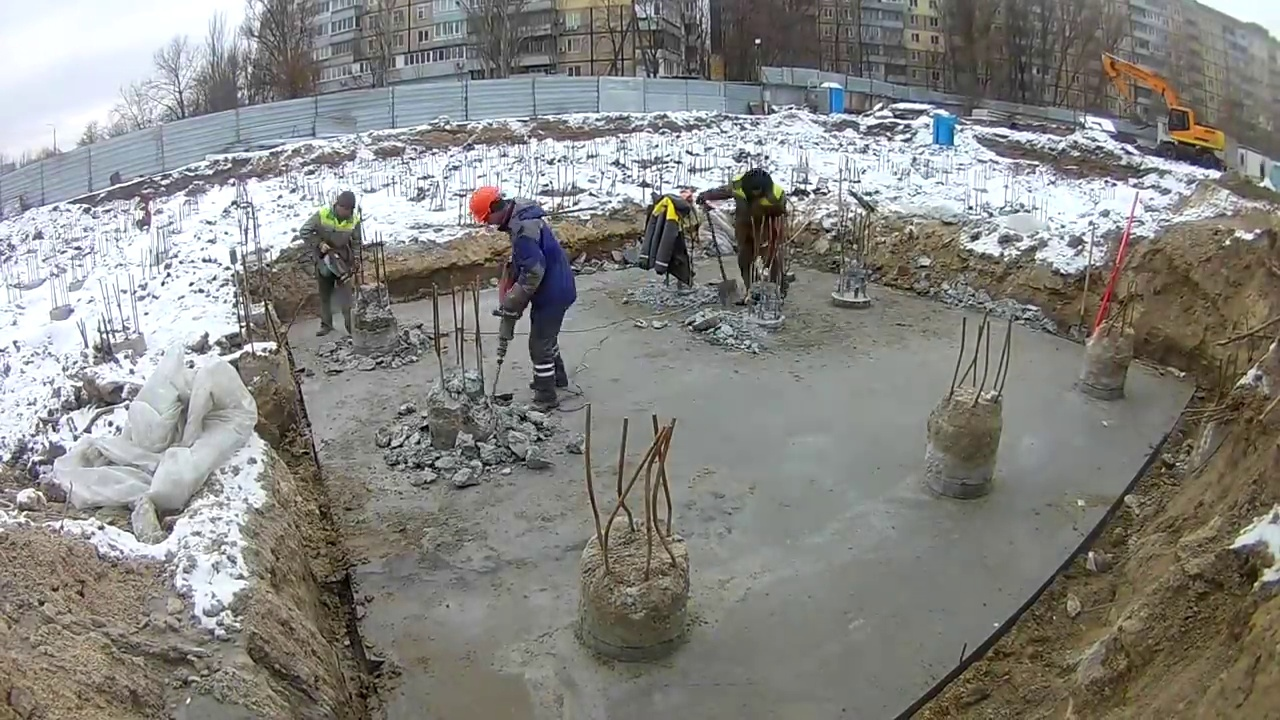helmet: (469, 183, 501, 222)
helmet-off: (740, 168, 773, 203), (331, 190, 358, 226)
helmet-on: (469, 182, 519, 228)
person: (468, 182, 578, 415), (698, 166, 788, 306), (298, 189, 369, 342)
